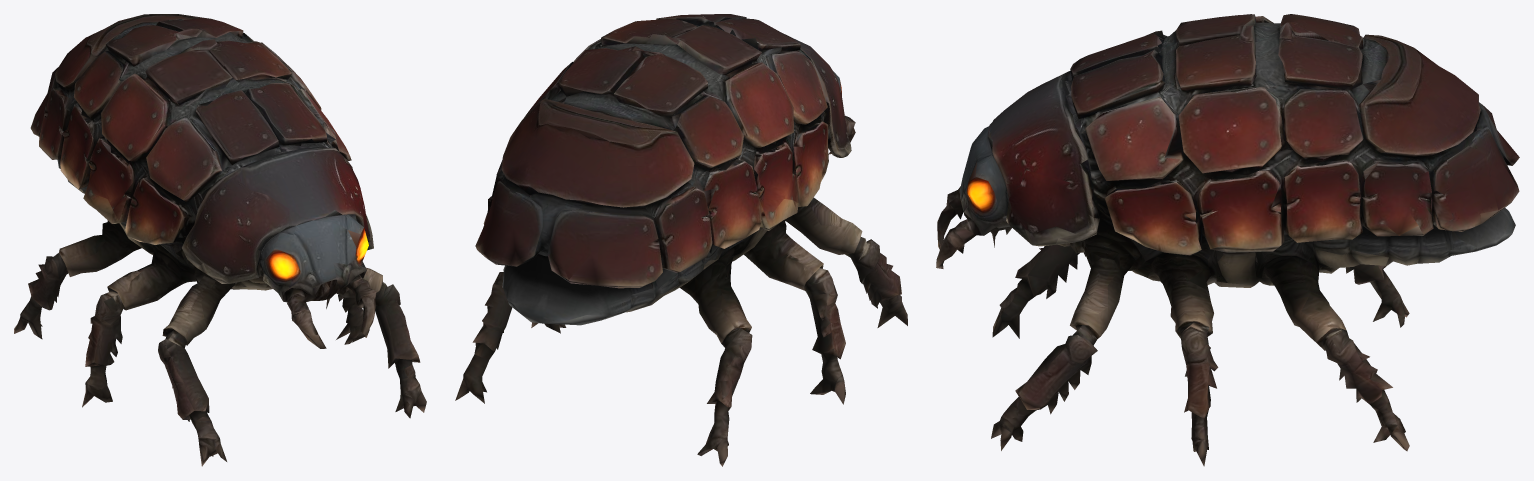
Rendered from enemy_crusher.glb.
3 views of the same model, side by side, from view 1: azimuth 30°, elevation 25°; view 2: azimuth 150°, elevation 25°; view 3: azimuth 270°, elevation 25° (orthographic). The views are drawn at different scales.
Visible parts, largest first — view 1: enemy_crusher; view 2: enemy_crusher; view 3: enemy_crusher.
Boxes of the visible parts, <box> form: enemy_crusher: <box>14,14,426,466</box>; enemy_crusher: <box>455,14,907,466</box>; enemy_crusher: <box>936,14,1519,466</box>.
Bounding box in the file's own units: 0.9334 × 1 × 1.45.
1 material, 1 textured.
